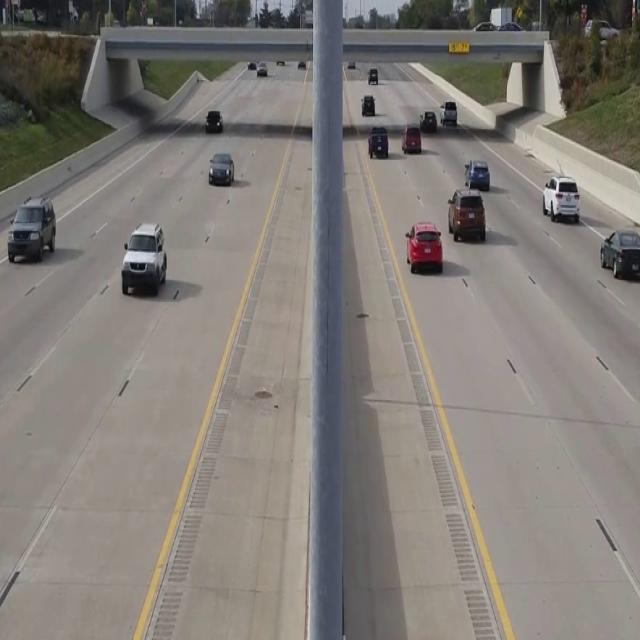car: (121, 220, 166, 296), (7, 196, 56, 263), (599, 228, 640, 280), (447, 188, 485, 242), (405, 220, 442, 274), (542, 177, 579, 222), (208, 152, 234, 186), (464, 159, 489, 191), (368, 125, 389, 159), (402, 124, 421, 152), (206, 108, 223, 132)
